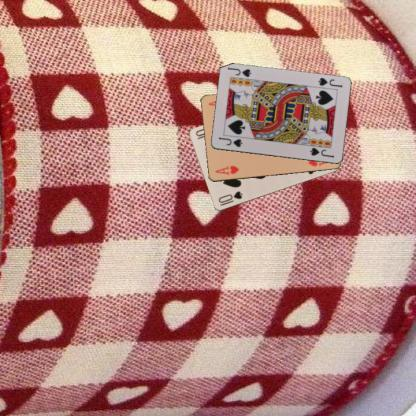10s: (215, 188, 244, 207)
Ah: (212, 163, 240, 176)
Js: (216, 134, 243, 148), (316, 75, 343, 89)
